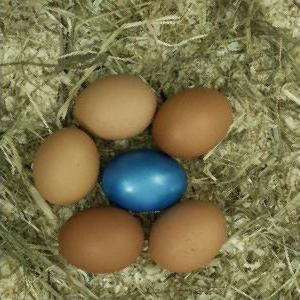egg: (59, 207, 145, 275), (147, 200, 227, 272), (73, 76, 158, 141), (153, 89, 233, 158), (100, 151, 188, 213), (34, 127, 100, 206)
